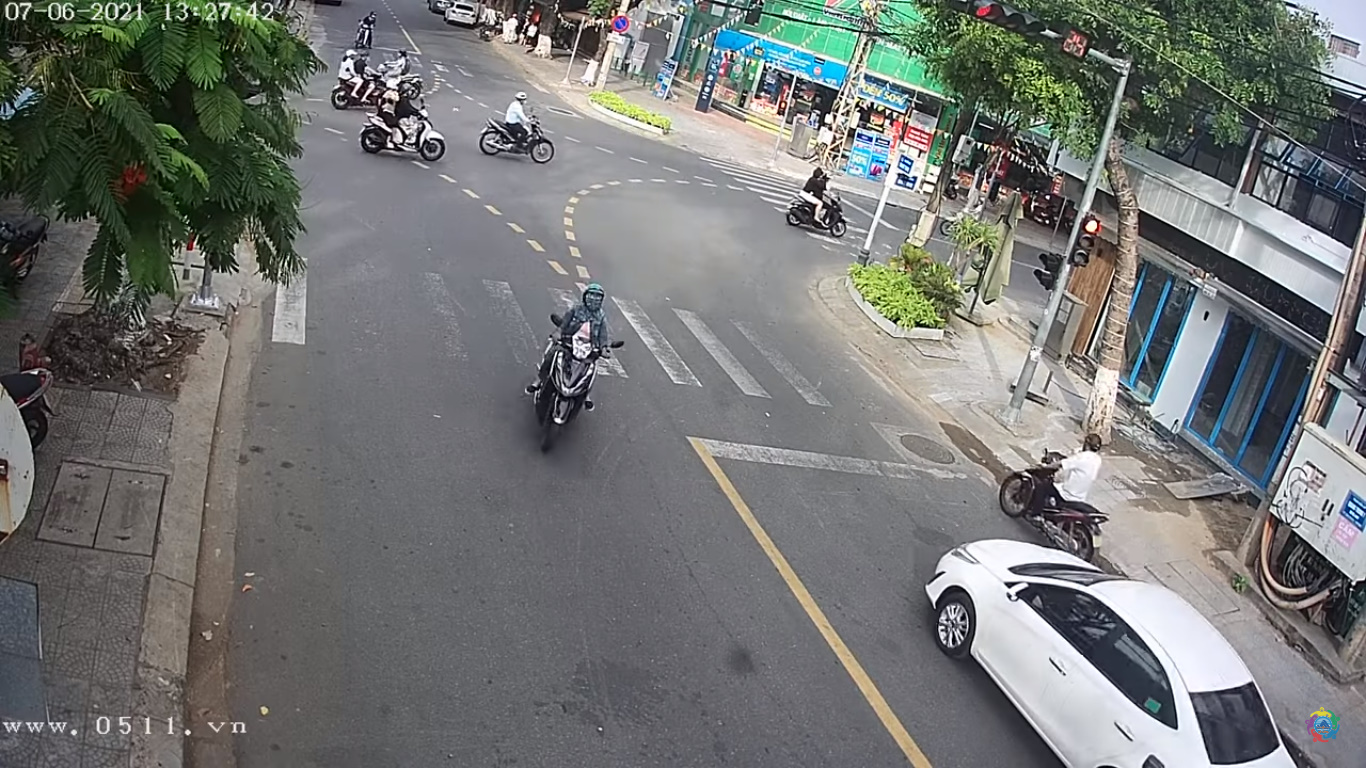motorbike: (531, 279, 607, 442)
